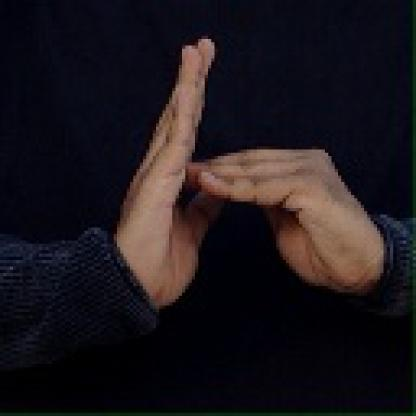Z: (118, 30, 364, 308)
